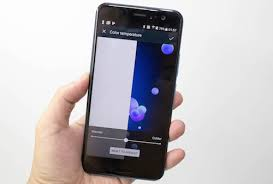htc: (75, 2, 185, 181)
